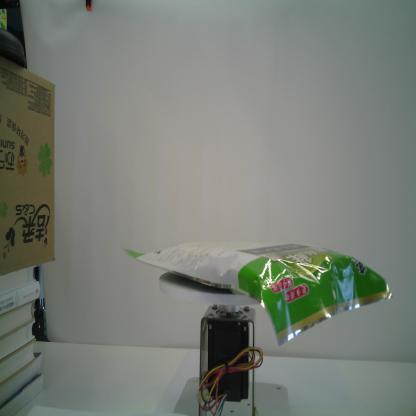Dried Food: (120, 234, 393, 349)
